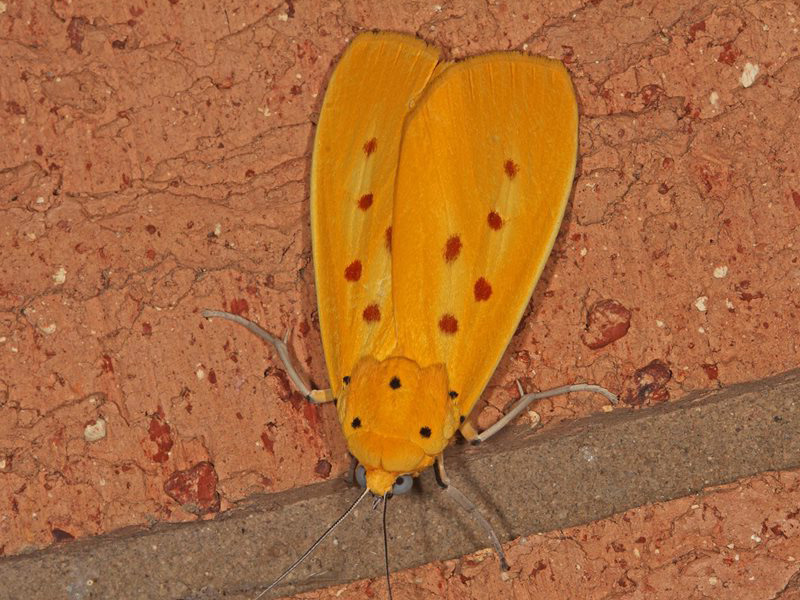Agape chloropyga: (196, 22, 625, 600)
moth: (194, 22, 623, 600)
